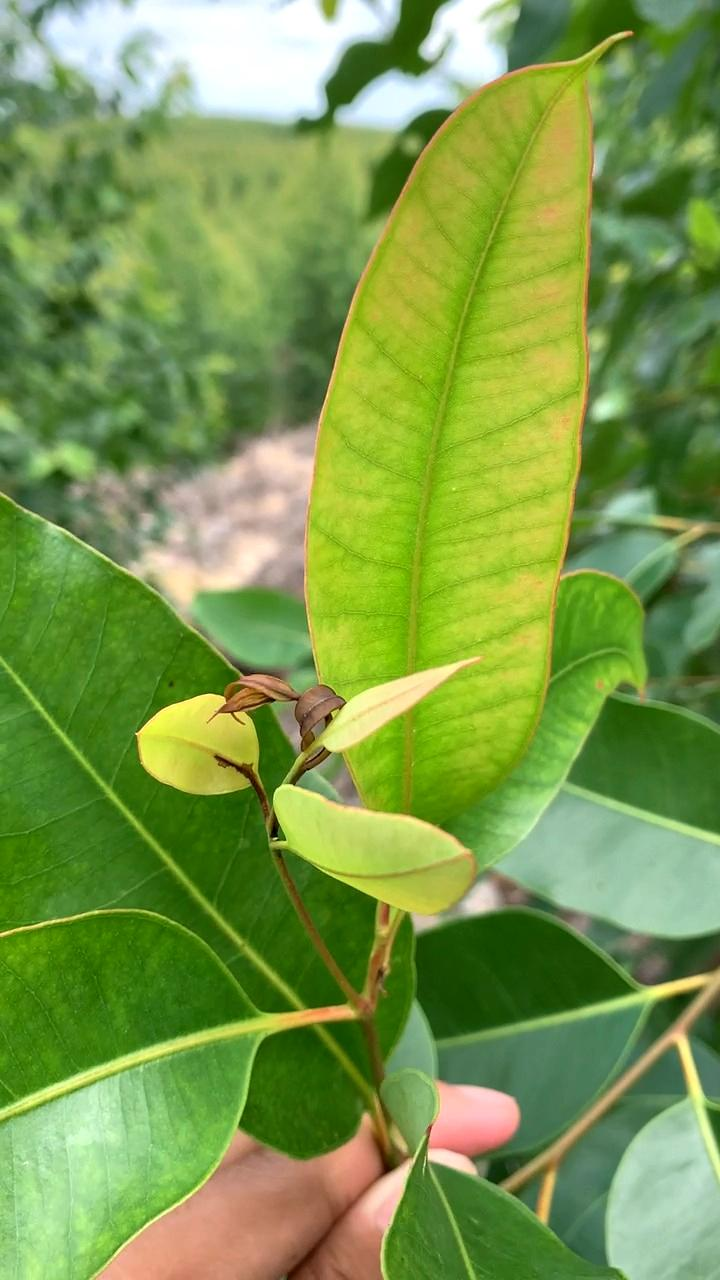Helopeltis-Withered Sprout: (196, 651, 357, 761)
